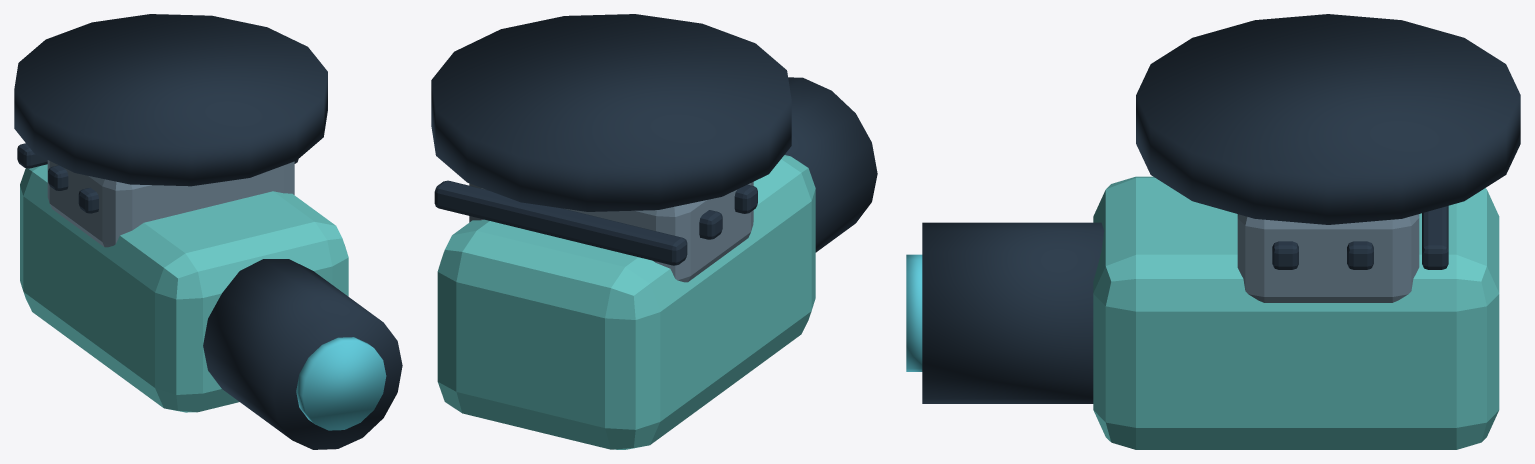
File: laser.glb
3 renders of one model, left to right at view 1: azimuth 30°, elevation 25°; view 2: azimuth 150°, elevation 25°; view 3: azimuth 270°, elevation 25°, orthographic. The views are drawn at different scales.
Parts seen in each view (by area): view 1: PitchMesh, laserMesh, YawMesh; view 2: PitchMesh, laserMesh, YawMesh; view 3: PitchMesh, laserMesh, YawMesh.
Boxes of the visible parts, x1,y1,x2,y2 form: PitchMesh: (17, 143, 402, 449); laserMesh: (14, 14, 327, 186); YawMesh: (47, 160, 294, 247); PitchMesh: (434, 77, 877, 449); laserMesh: (431, 14, 791, 211); YawMesh: (469, 182, 753, 282); PitchMesh: (906, 176, 1499, 449); laserMesh: (1136, 14, 1520, 224); YawMesh: (1237, 214, 1419, 302).
Size of the model in its own units: 0.36 by 0.325 by 0.575.
